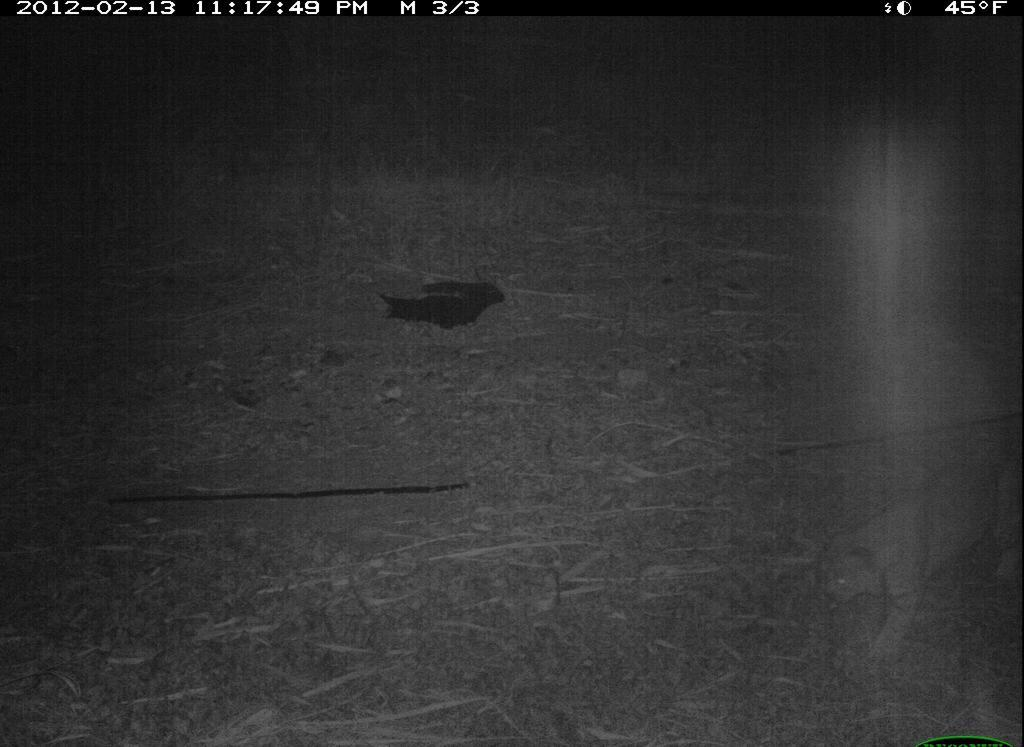bobcat: (806, 446, 1018, 675)
